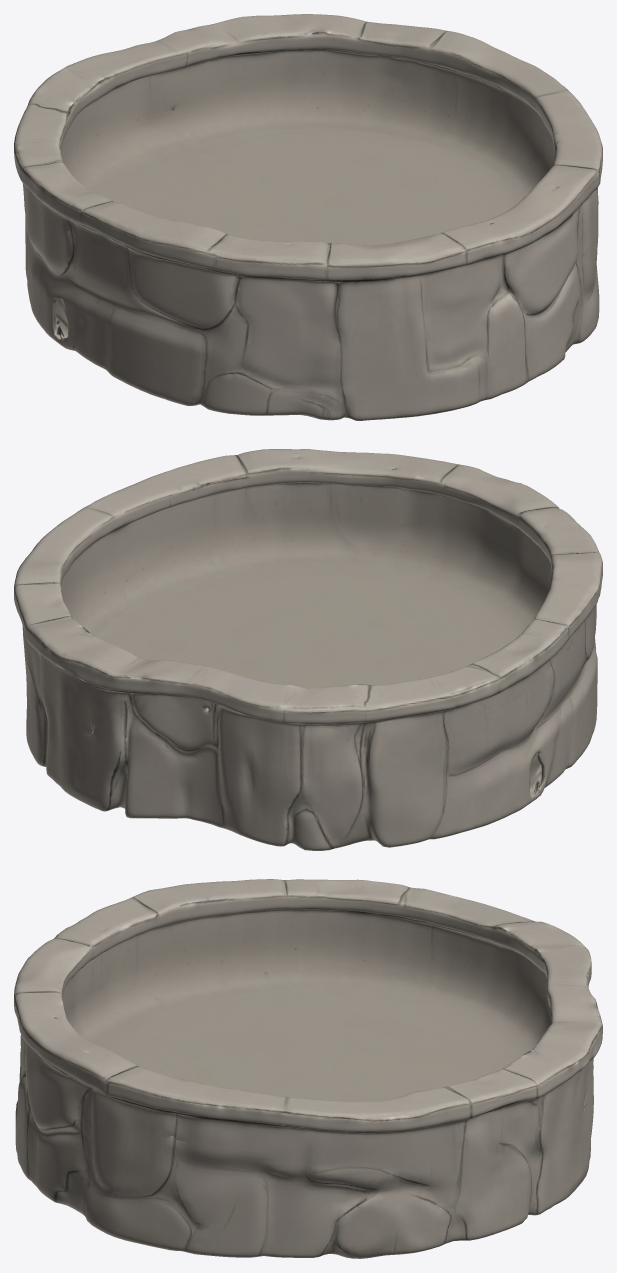
File: tripo_convert_1d6a7e1e-5cb4-4d4d-9c6c-3af6dd490d44.fbx
The picture shows the model from 3 angles, top to bottom: view 1: azimuth 30°, elevation 25°; view 2: azimuth 150°, elevation 25°; view 3: azimuth 270°, elevation 25°; orthographic projection. The views are drawn at different scales.
Parts seen in each view (by area): view 1: tripo_node_1d6a7e1e; view 2: tripo_node_1d6a7e1e; view 3: tripo_node_1d6a7e1e.
Boxes of the visible parts, bbox=[...] form: tripo_node_1d6a7e1e: bbox=[14, 14, 602, 420]; tripo_node_1d6a7e1e: bbox=[14, 449, 602, 850]; tripo_node_1d6a7e1e: bbox=[14, 879, 602, 1258].
Size of the model in its own units: 0.9528 by 0.3065 by 0.9995.
1 material, 1 textured.
